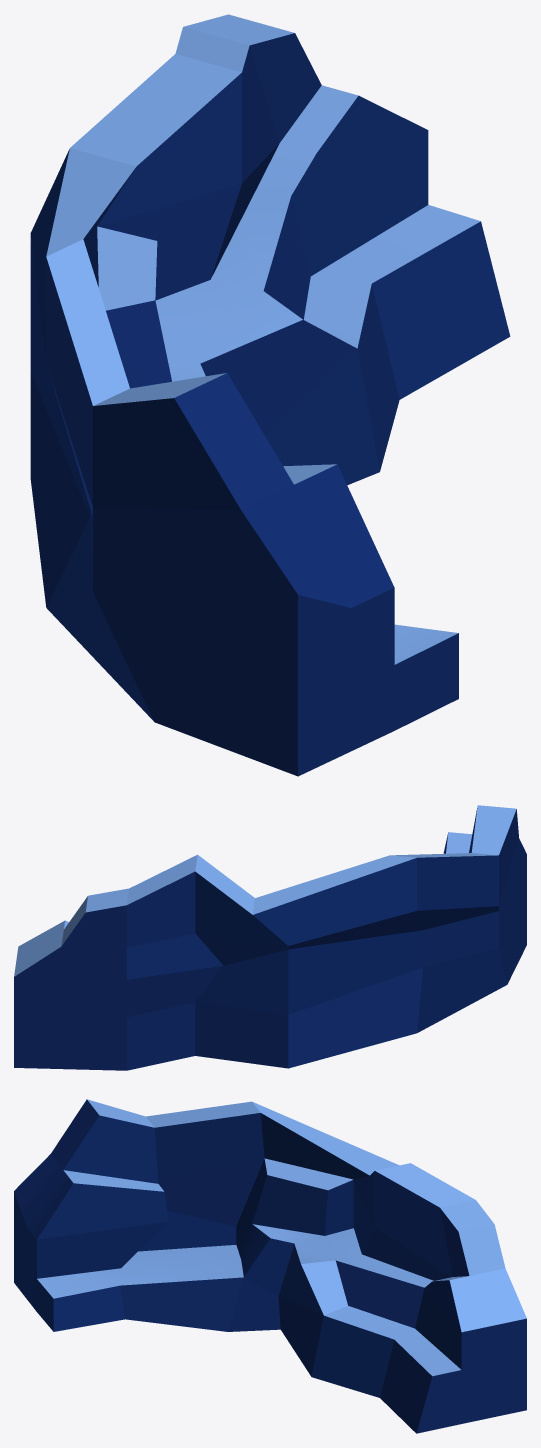
File: Rock_Wall_2.fbx
The picture shows the model from 3 angles, top to bottom: view 1: azimuth 30°, elevation 25°; view 2: azimuth 150°, elevation 25°; view 3: azimuth 270°, elevation 25°; orthographic projection. The views are drawn at different scales.
Parts seen in each view (by area): view 1: Rock_wall_2; view 2: Rock_wall_2; view 3: Rock_wall_2.
Boxes of the visible parts, bbox=[...] form: Rock_wall_2: bbox=[30, 14, 510, 776]; Rock_wall_2: bbox=[14, 805, 526, 1070]; Rock_wall_2: bbox=[14, 1099, 526, 1433].
Size of the model in its own units: 220 by 114 by 282.
